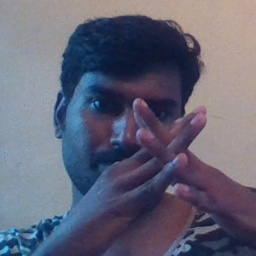W: (104, 81, 236, 227)
